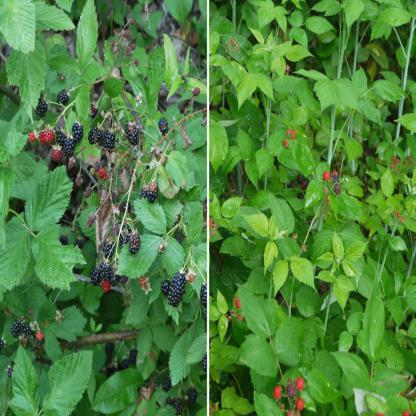Raspberry leaf: (24, 162, 76, 236), (42, 348, 96, 415), (31, 225, 81, 294), (113, 231, 168, 280), (1, 212, 35, 290), (1, 1, 38, 57), (78, 2, 100, 70)
